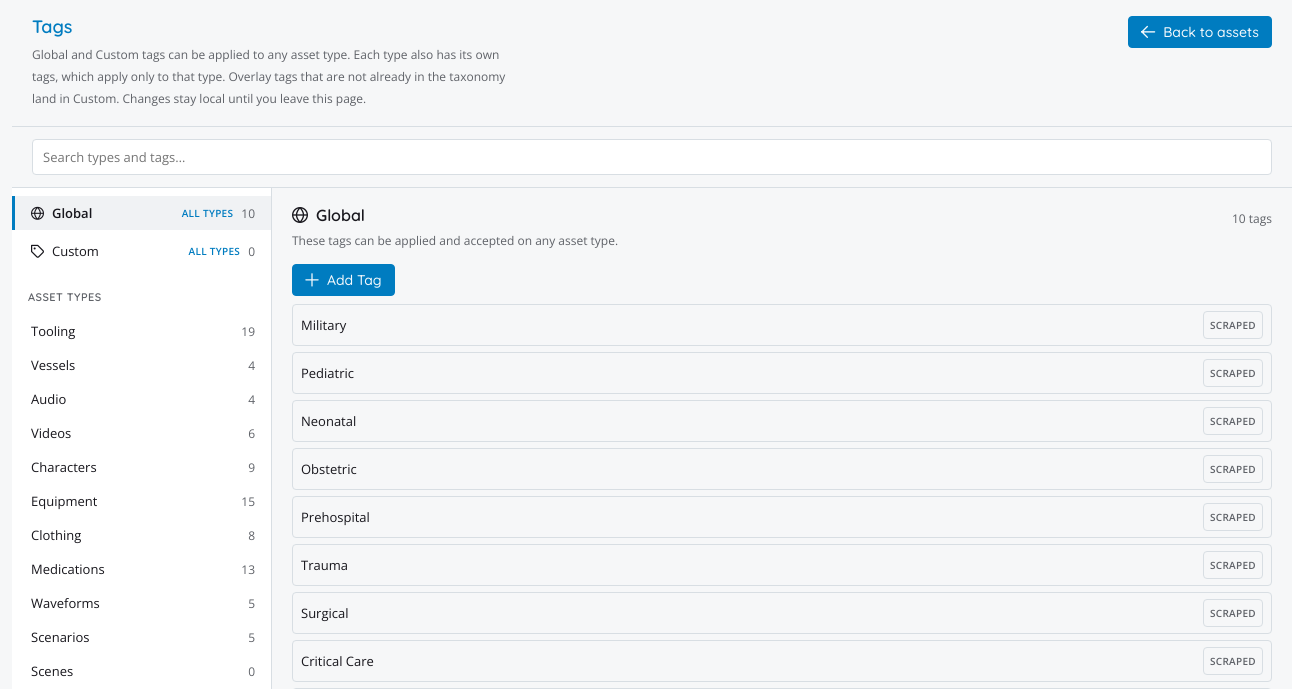
Test: TagsPageComponent › describes Custom as overlay tags that apply to any type
Click the button with class "nav-item" showing "Custom All types 0" at [142, 251], box [12, 234, 271, 268]
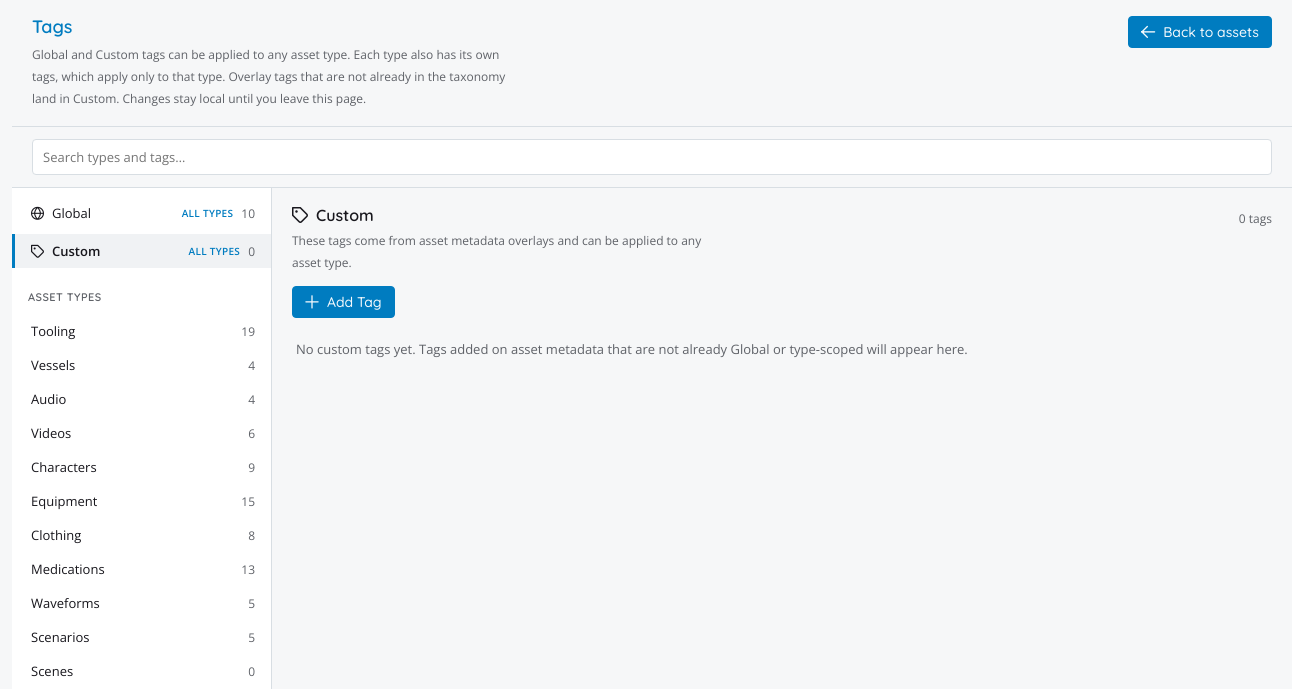
Now the text "These tags come from asset metadata overlays and can be applied to any asset type." is shown, box [292, 232, 701, 271]
